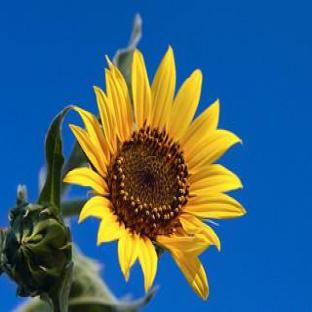sunflower: (61, 14, 247, 301)
